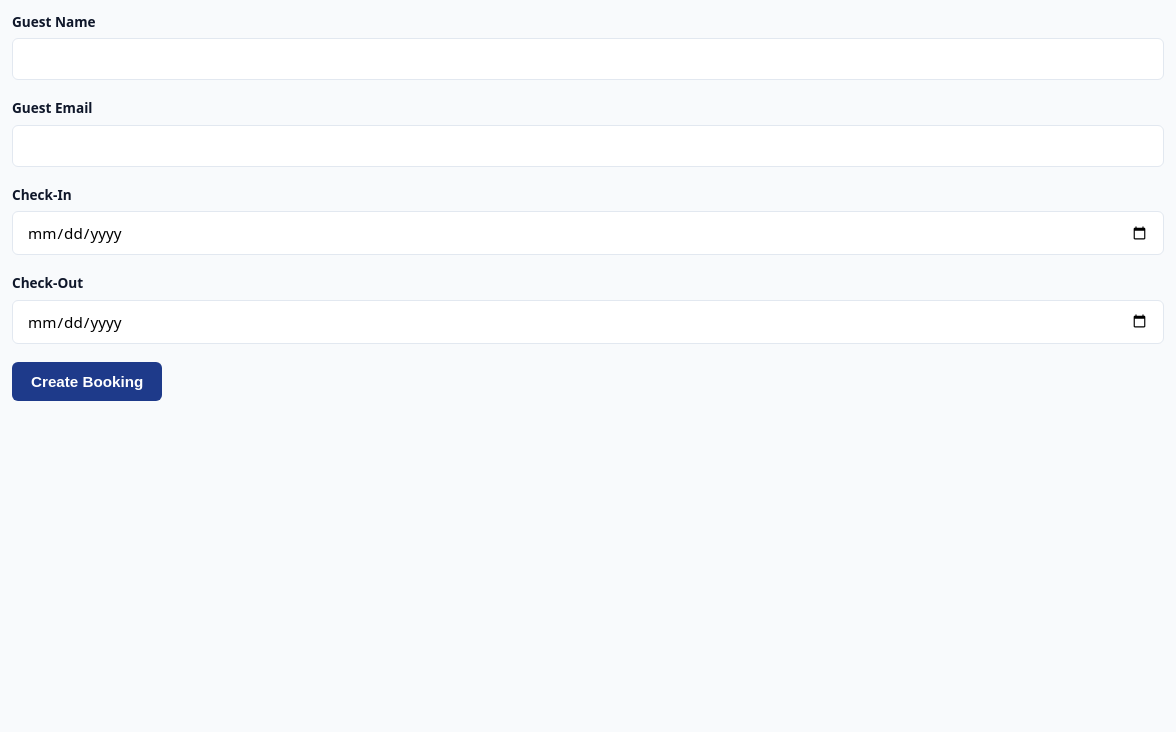
BookingForm › shows all inputs and validation errors
This screenshot has width=1176, height=732.
Click the button "Create Booking" at (87, 381), box [12,362,162,401]
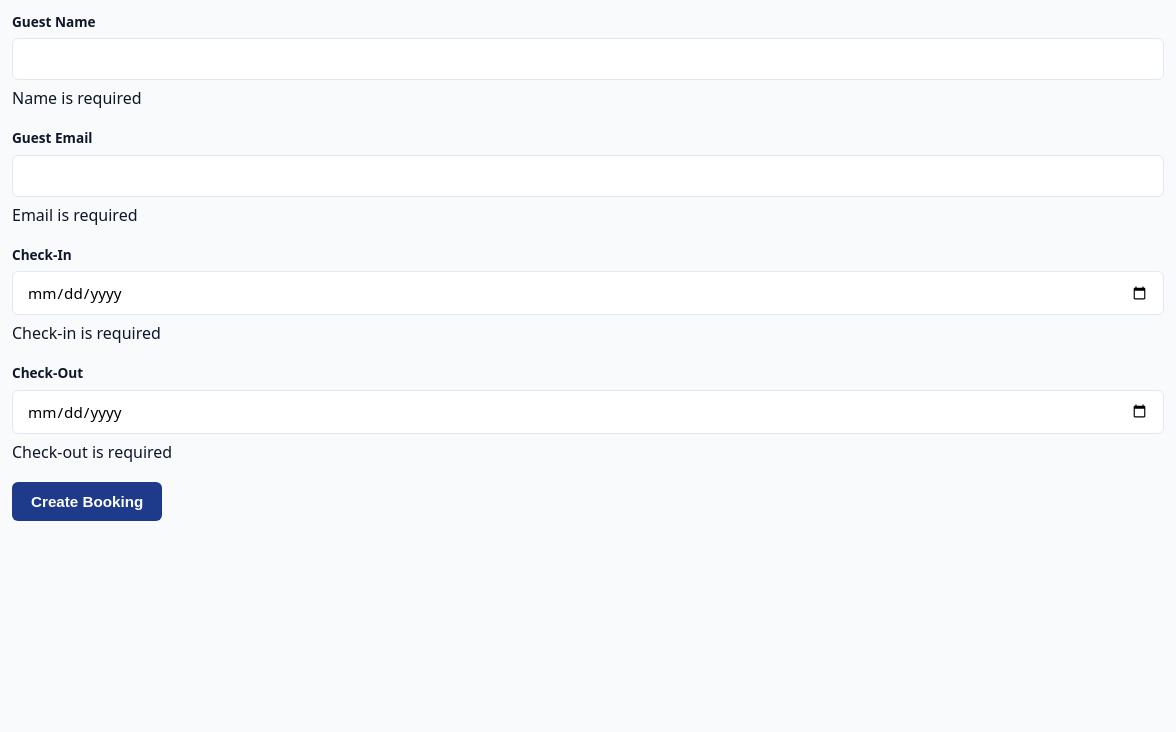
expect the text "Name is required" is shown: met, box [12,87,142,109]
expect the text "Email is required" is shown: met, box [12,204,138,226]
expect the text "Check-in is required" is shown: met, box [12,322,161,344]
